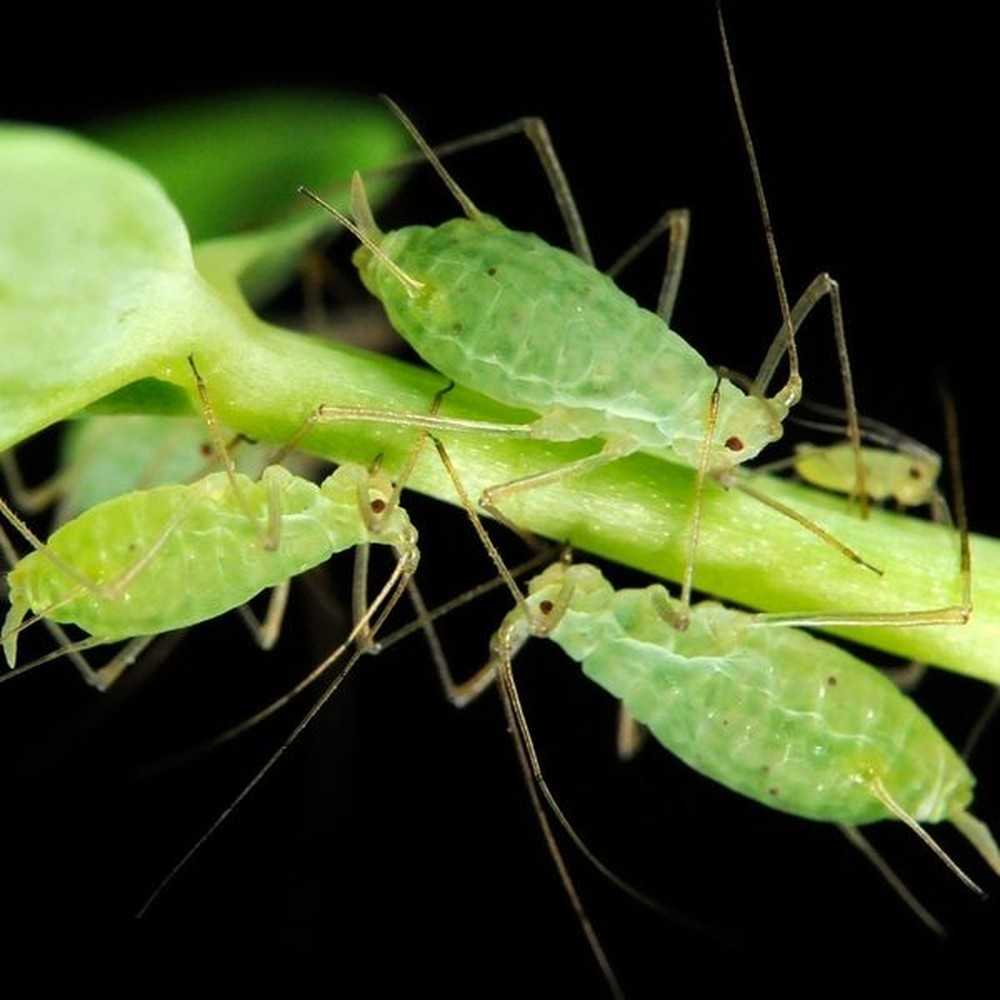Pulgon: (292, 116, 871, 569), (433, 511, 1000, 947), (7, 400, 422, 723), (789, 390, 949, 545)
